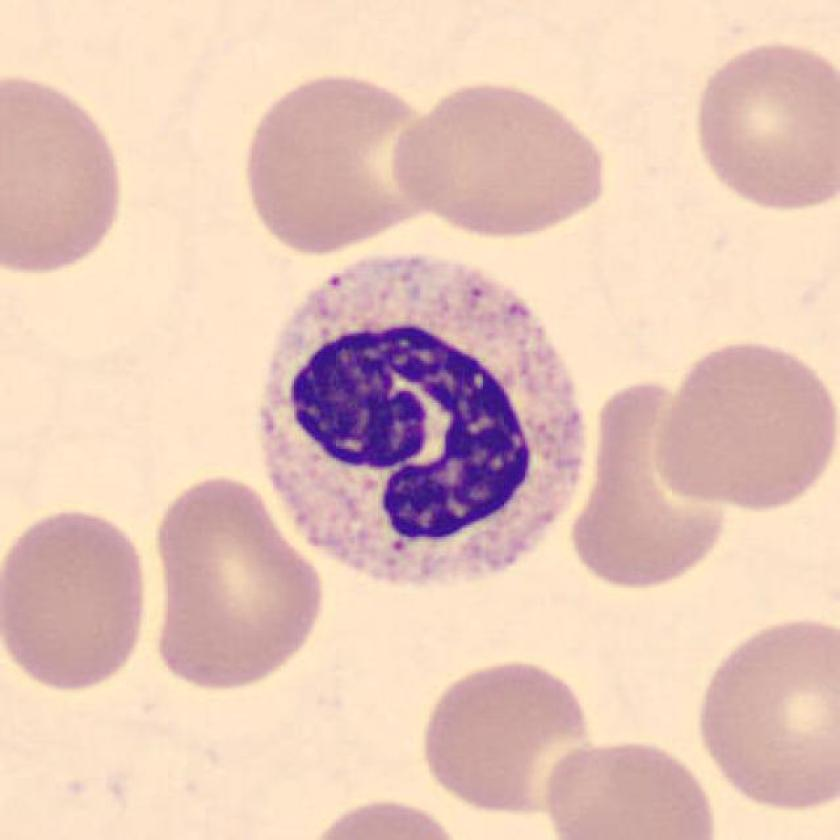neutrophil: (264, 252, 584, 589)
